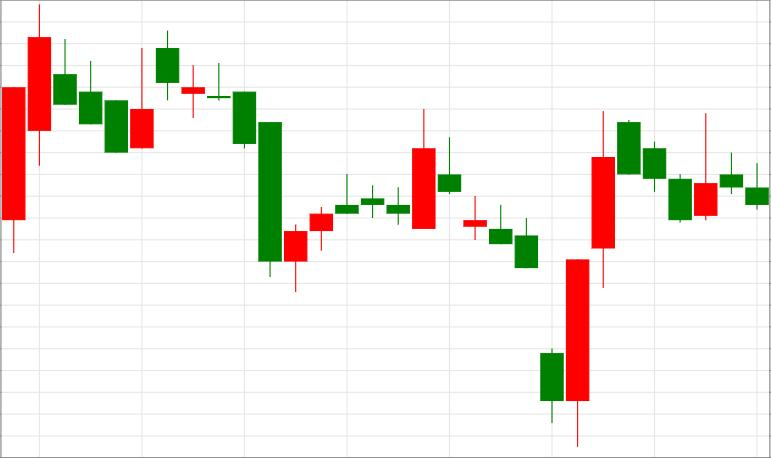bullish_engulfing_rise: (438, 137, 589, 448)
inverse_hammer_rise: (617, 113, 718, 223)
